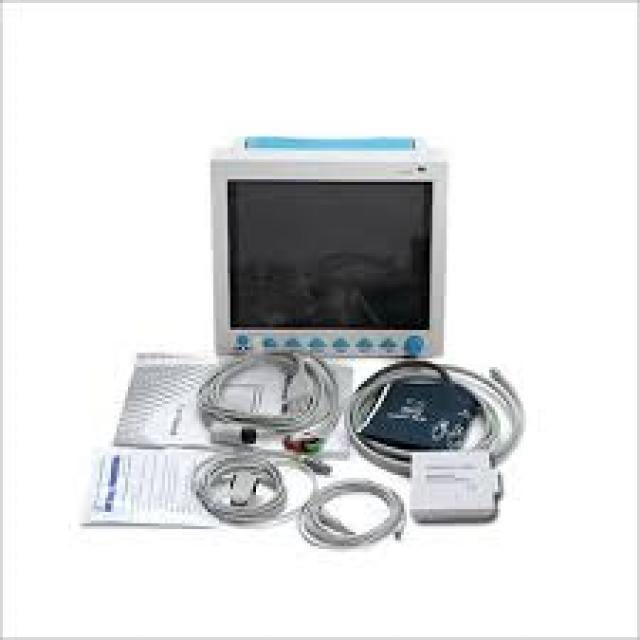cardiac_monitor: (211, 151, 507, 552)
